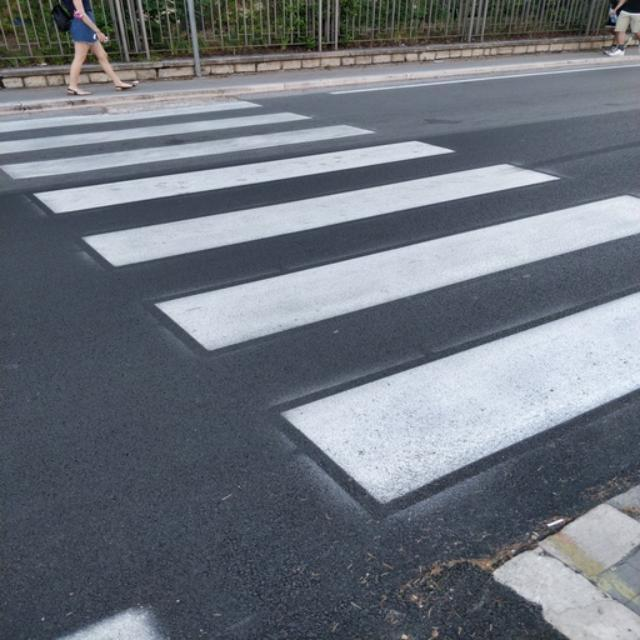sidewalk: (3, 92, 638, 630)
